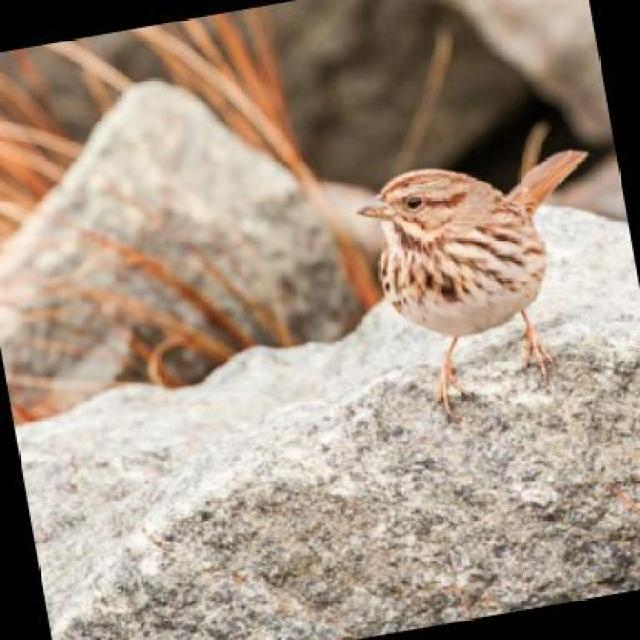Bird: (355, 145, 593, 418)
